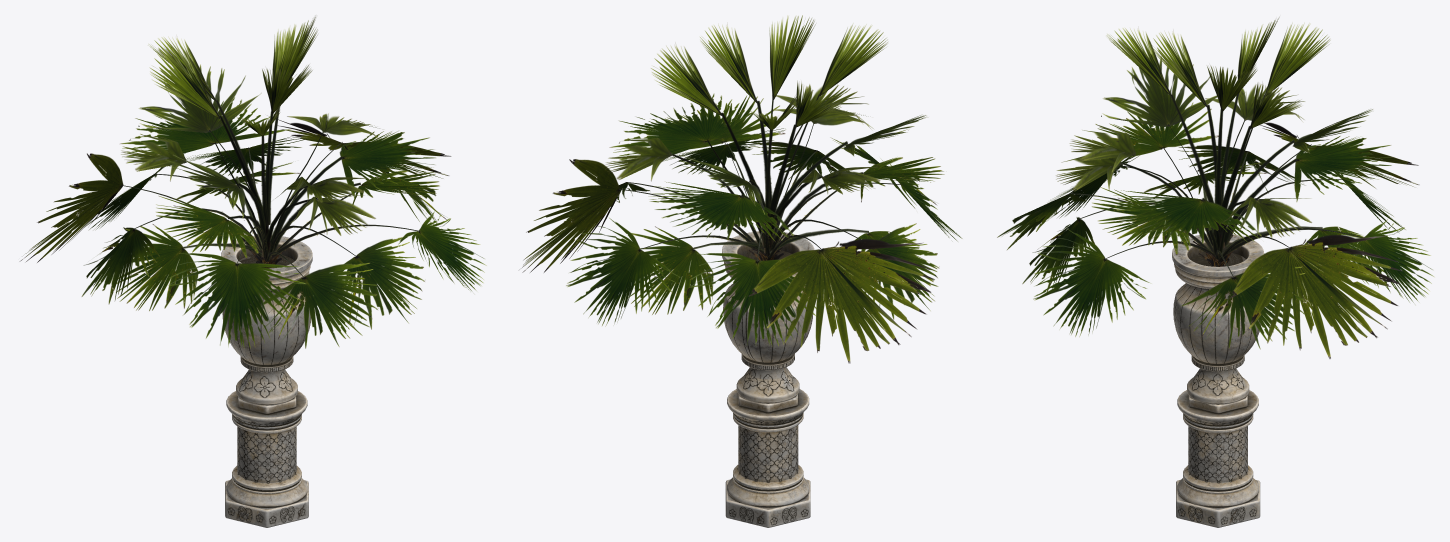
The model's file is vase_flower_pot_-_23mb.glb.
3 renders of one model, left to right at view 1: azimuth 30°, elevation 25°; view 2: azimuth 150°, elevation 25°; view 3: azimuth 270°, elevation 25°, orthographic.
Visible parts, largest first — view 1: 02_1_02_0, 02_02_0, vase; view 2: 02_1_02_0, 02_02_0, vase; view 3: 02_02_0, 02_1_02_0, vase.
Boxes of the visible parts, x1=… form: 02_1_02_0: x1=19, y1=24, x2=446, y2=348; 02_02_0: x1=81, y1=16, x2=486, y2=348; vase: x1=221, y1=236, x2=312, y2=527; 02_1_02_0: x1=560, y1=23, x2=962, y2=363; 02_02_0: x1=519, y1=15, x2=944, y2=346; vase: x1=722, y1=231, x2=814, y2=527; 02_02_0: x1=997, y1=23, x2=1405, y2=358; 02_1_02_0: x1=1022, y1=17, x2=1433, y2=349; vase: x1=1172, y1=233, x2=1264, y2=527.
Bounding box in the file's own units: 1.6 × 1.79 × 1.53.
Materials: 2 (2 with a texture image).
